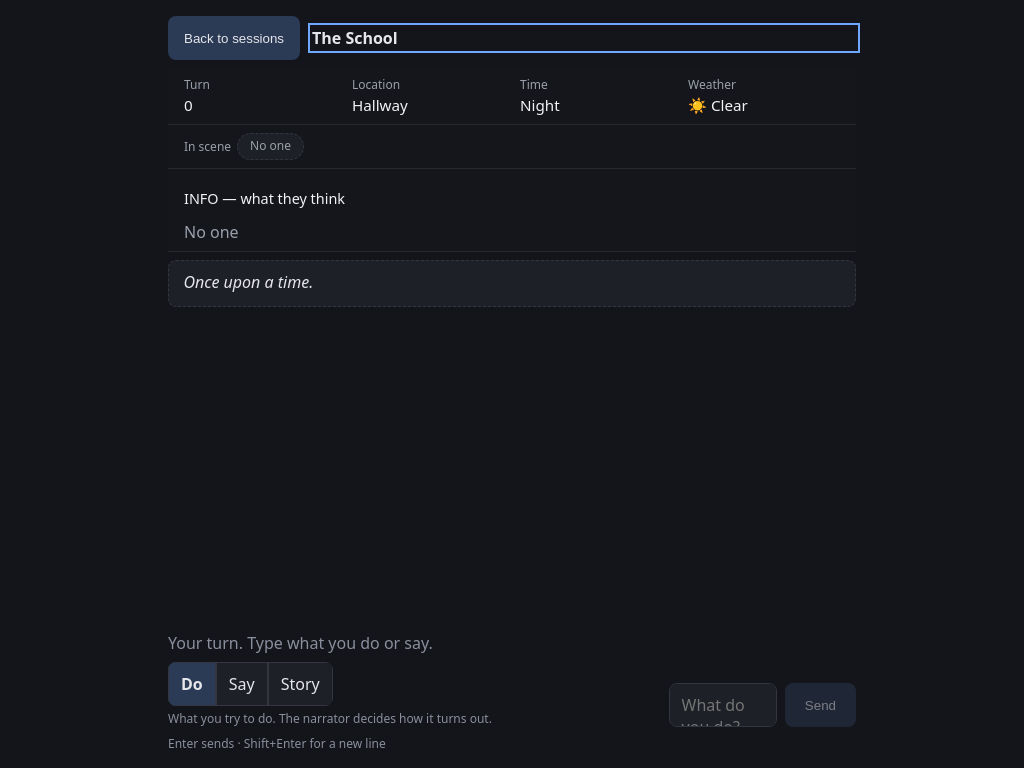
Test: GameScreen turns › plays two turns in a row with correct indices and focus back on the input each time
Expected: the text "Once upon a time." is shown, left=183, top=271, right=313, bottom=293
Type "first" into the text box named "Your action" at (723,705), box left=668, top=683, right=777, bottom=727
Then press Enter
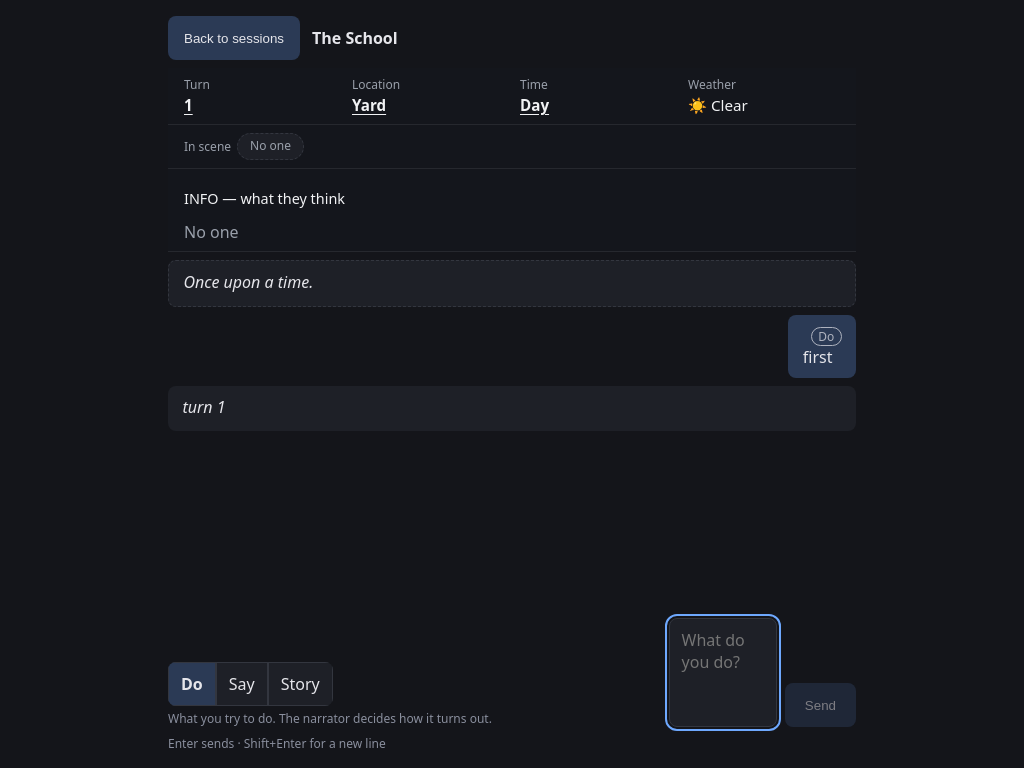
Result: the text "turn 1" is shown at left=182, top=396, right=226, bottom=418
Type "second" into the text box named "Your action" at (723,672), box left=668, top=618, right=777, bottom=727
Then press Enter
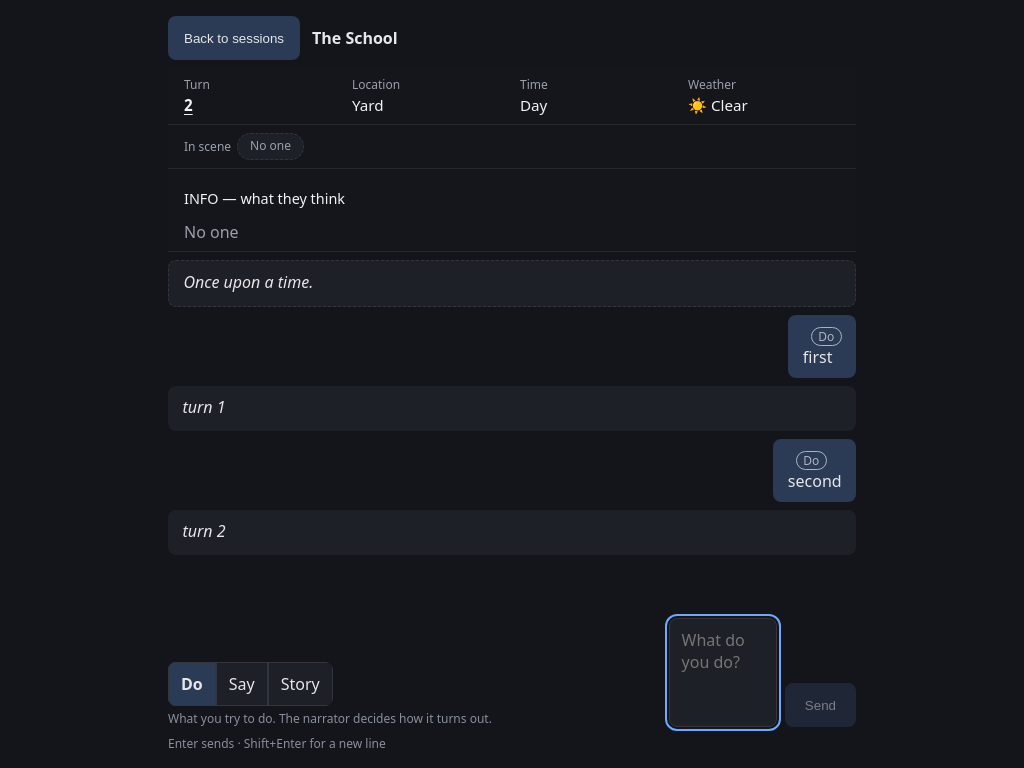
Result: the text "first" is shown at left=803, top=346, right=832, bottom=368
Result: the text "turn 2" is shown at left=182, top=520, right=226, bottom=542
Result: the text "second" is shown at left=788, top=470, right=842, bottom=492
